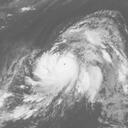cyclone: (31, 49, 98, 99)
